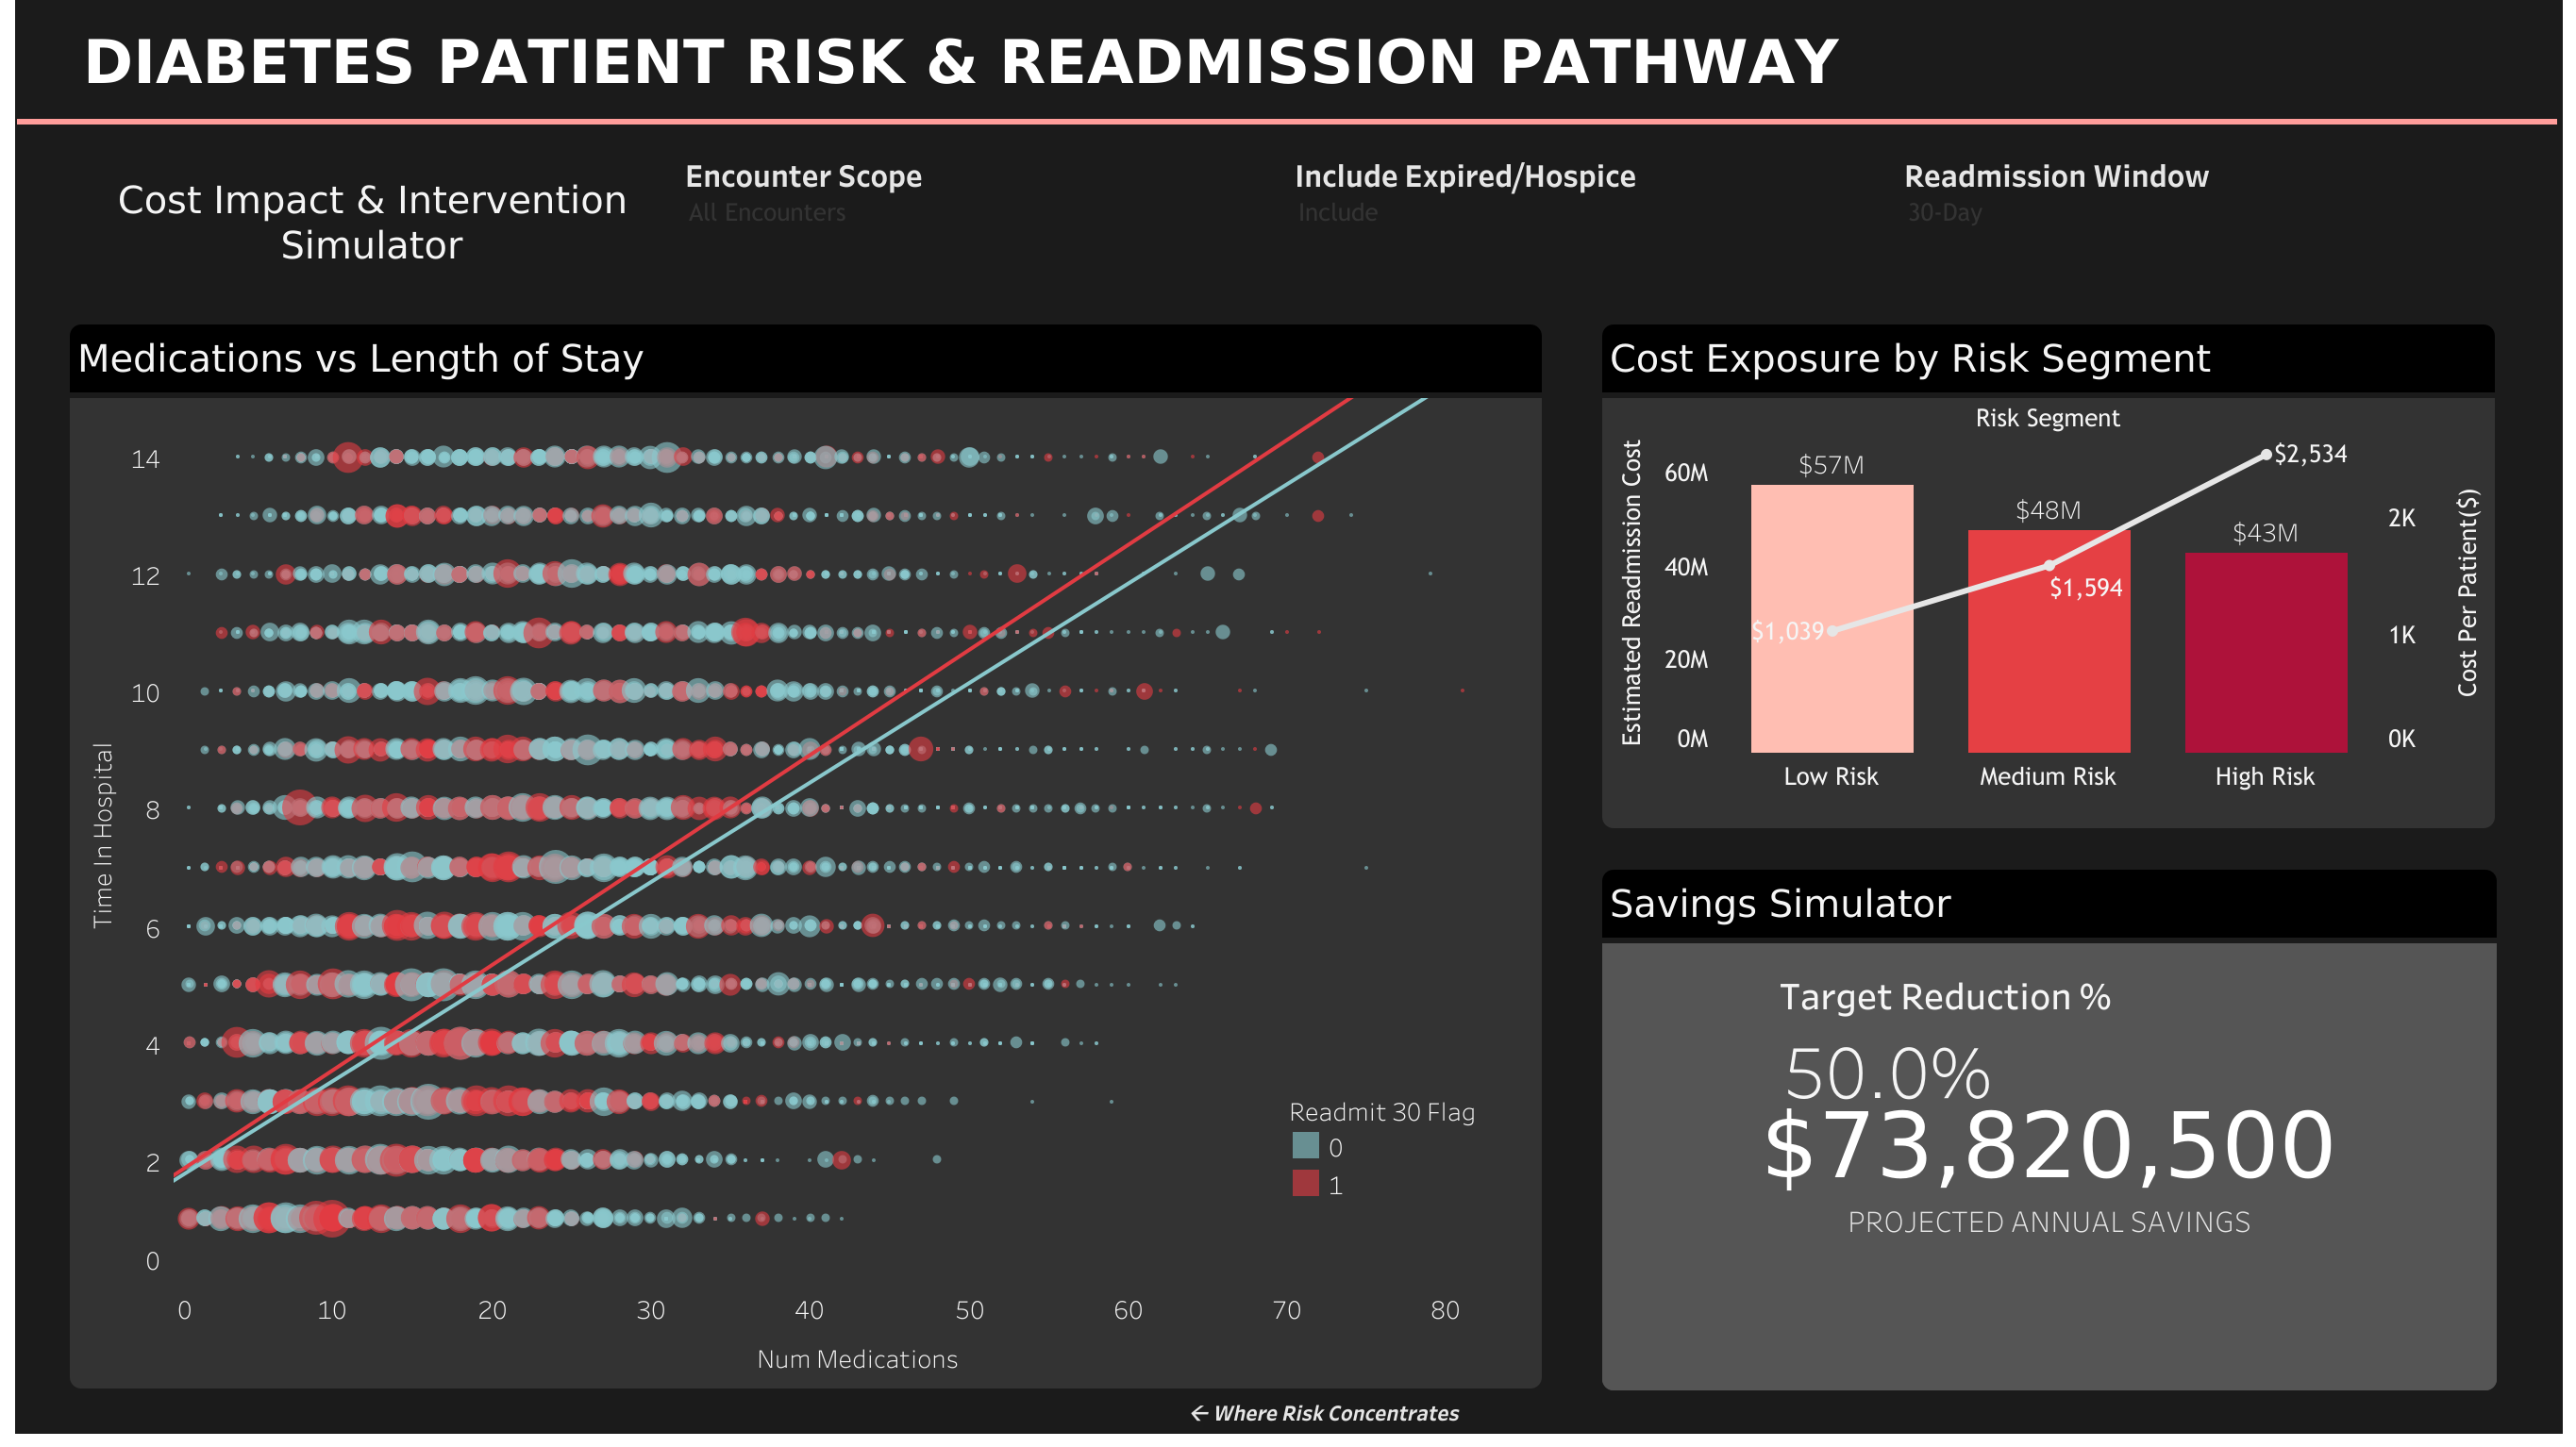

Layout of this report page (visuals, bound fields, positions):
{"tool":"tableau","page":{"name":"Cost & Intervention Simulator","canvas":[1366,768],"ordinal":0},"visuals":[{"type":"text","box":[8,0,1350,65]},{"type":"text","box":[36,76,323,83]},{"type":"parameter","param":"[Parameters].[Parameter 2445124789719042]","box":[359,76,323,83]},{"type":"parameter","param":"[Parameters].[Parameter 2445124789452801]","box":[682,76,323,83]},{"type":"parameter","param":"[Parameters].[Parameter 2445124788506624]","box":[1005,76,322,83]},{"type":"worksheet","title":"Medications vs Length of Stay","mark":"Circle","rows":["time_in_hospital"],"cols":["num_medications"],"box":[37,172,780,564]},{"type":"worksheet","title":"Cost Exposure by Risk Segment","mark":"Bar","rows":["Calculation_2445124791214090","Calculation_2445125502783515"],"cols":["Calculation_2445124791078921"],"box":[849,172,473,267]},{"type":"worksheet","title":"Savings Simulator","mark":"Automatic","box":[849,461,474,276]},{"type":"parameter","param":"[Parameters].[Parameter 2445124789960707]","box":[943,513,318,71]},{"type":"legend","title":"Medications vs Length of Stay","param":"[federated.1vlc5p009xdqd31c1rrel13e3ekf].[sum:readmit_30_flag:ok]","box":[682,577,120,72]},{"type":"dashboard-object","box":[615,737,175,22]}]}

Visuals, with their boxes in screenshot pixels (x1, y1, x2, y2), scaled from the page's 1366x768 canvas onto the 2576x1447 screenshot:
text: <box>15,0,2561,123</box>
text: <box>68,143,677,300</box>
parameter: <box>677,143,1286,300</box>
parameter: <box>1286,143,1896,300</box>
parameter: <box>1896,143,2502,300</box>
"Medications vs Length of Stay" worksheet (Circle marks): <box>70,324,1541,1387</box>
"Cost Exposure by Risk Segment" worksheet (Bar marks): <box>1601,324,2493,827</box>
"Savings Simulator" worksheet: <box>1601,869,2495,1389</box>
parameter: <box>1779,967,2378,1100</box>
"Medications vs Length of Stay" legend: <box>1286,1087,1513,1222</box>
dashboard-object: <box>1160,1389,1490,1430</box>
